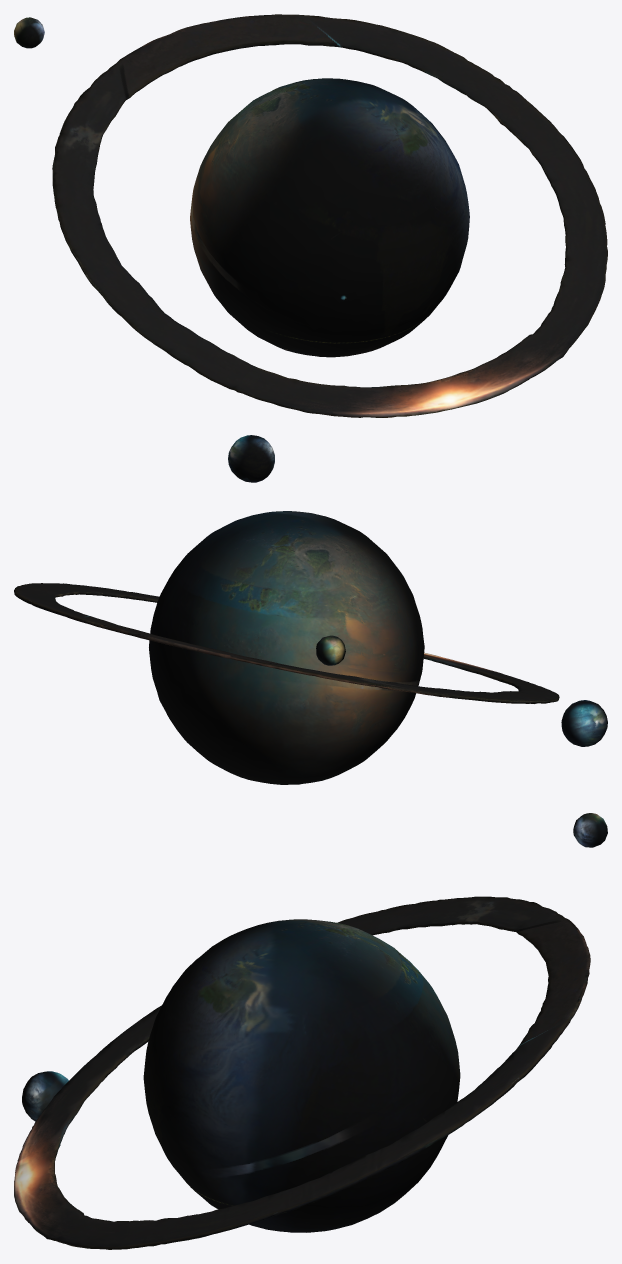
File: planet3.obj
The picture shows the model from 3 angles, top to bottom: view 1: azimuth 30°, elevation 25°; view 2: azimuth 150°, elevation 25°; view 3: azimuth 270°, elevation 25°; orthographic projection. The views are drawn at different scales.
Parts seen in each view (by area): view 1: Meshy_AI_Generate_a_planet_0128102551_texture; view 2: Meshy_AI_Generate_a_planet_0128102551_texture; view 3: Meshy_AI_Generate_a_planet_0128102551_texture.
Boxes of the visible parts, box(x1,y1,x2,y2) form: Meshy_AI_Generate_a_planet_0128102551_texture: box(14, 14, 607, 482); Meshy_AI_Generate_a_planet_0128102551_texture: box(14, 511, 607, 784); Meshy_AI_Generate_a_planet_0128102551_texture: box(14, 813, 607, 1249).
Bounding box in the file's own units: 1.83 × 1 × 1.7.
